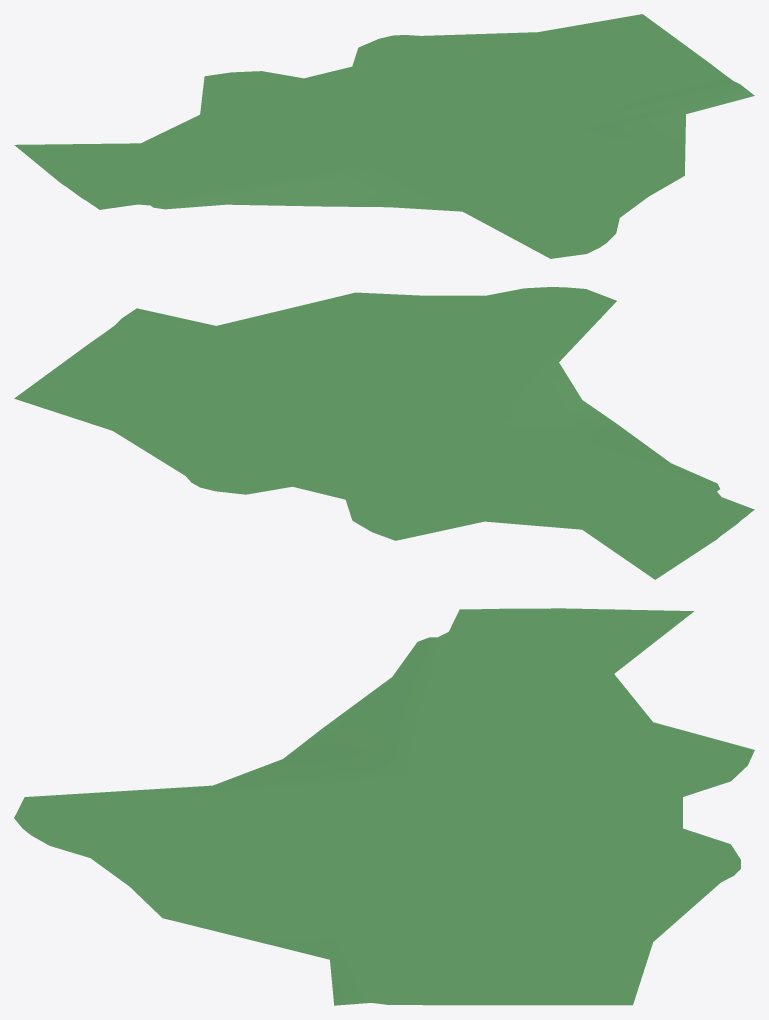
Rendered from nav_mesh.gltf.
3 views of the same model, one above another, from view 1: azimuth 30°, elevation 25°; view 2: azimuth 150°, elevation 25°; view 3: azimuth 270°, elevation 25° (orthographic). The views are drawn at different scales.
Parts seen in each view (by area): view 1: pPlane1; view 2: pPlane1; view 3: pPlane1.
Part boxes in pixels (left/top/right/bottom): pPlane1: left=14, top=14, right=754, bottom=258; pPlane1: left=14, top=287, right=754, bottom=579; pPlane1: left=14, top=608, right=754, bottom=1005.
Bounding box in the file's own units: 38 × 0.2924 × 29.95.
